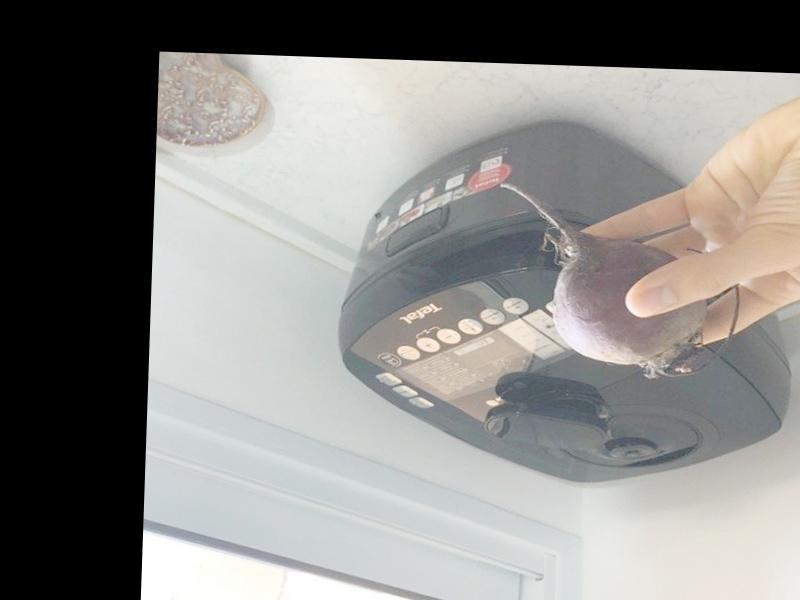Beet: (494, 179, 740, 381)
